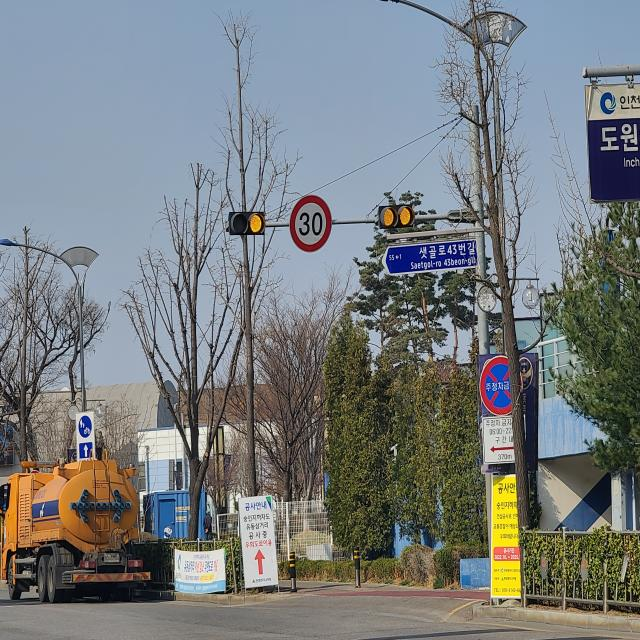Yellow Light: (382, 206, 397, 227), (249, 214, 262, 234), (399, 207, 412, 226)
